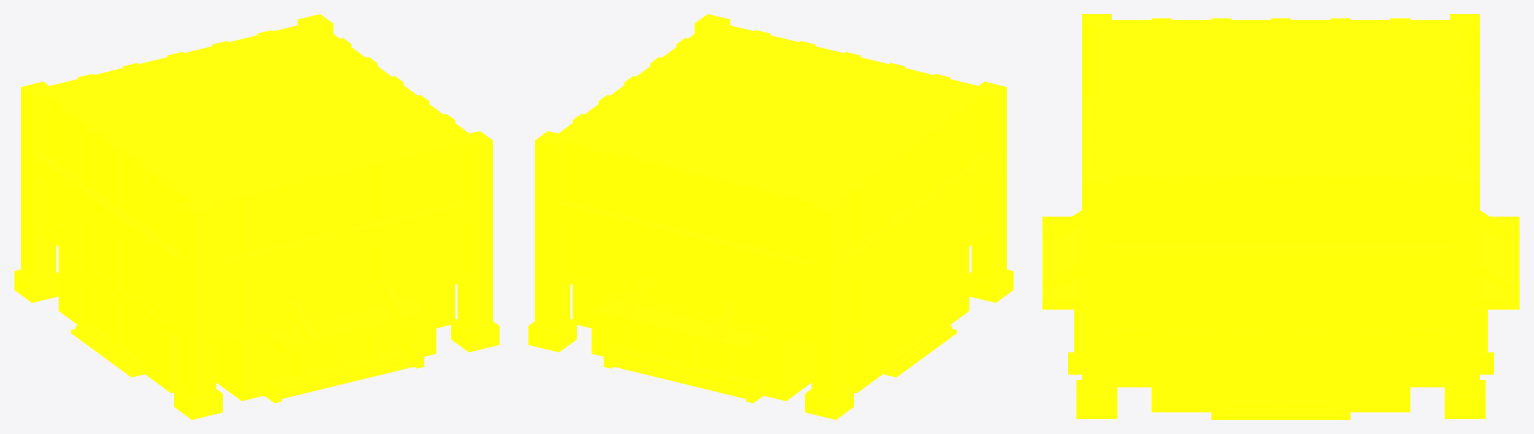
File: skyscraper-part-bottom.glb
The picture shows the model from 3 angles, left to right: view 1: azimuth 30°, elevation 25°; view 2: azimuth 150°, elevation 25°; view 3: azimuth 270°, elevation 25°; orthographic projection. The views are drawn at different scales.
Visible parts, largest first — view 1: skyscraper-part-bottom; view 2: skyscraper-part-bottom; view 3: skyscraper-part-bottom.
Boxes of the visible parts, <box> form: skyscraper-part-bottom: <box>14,14,499,419</box>; skyscraper-part-bottom: <box>528,14,1013,419</box>; skyscraper-part-bottom: <box>1042,14,1519,419</box>.
Size of the model in its own units: 20.8 by 13 by 24.
1 material, 1 textured.
